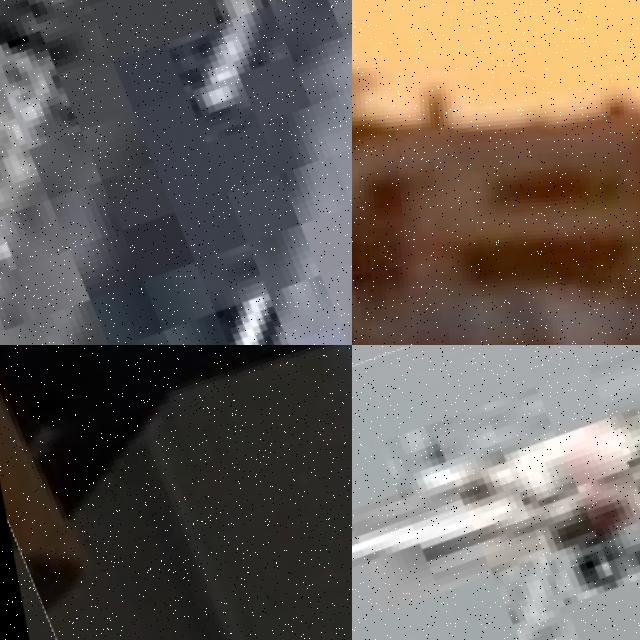0: (0, 0, 352, 345), (352, 345, 640, 640)
drone: (0, 345, 352, 640)
